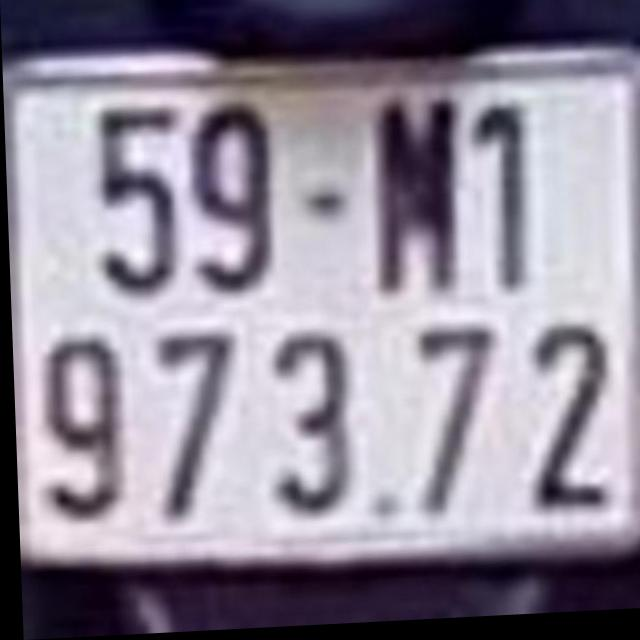1: (471, 102, 526, 292)
2: (523, 324, 615, 521)
3: (267, 329, 347, 525)
5: (92, 96, 185, 295)
7: (408, 319, 500, 528), (150, 325, 236, 539)
9: (192, 103, 275, 295), (36, 332, 120, 520)
M: (375, 99, 465, 309)
